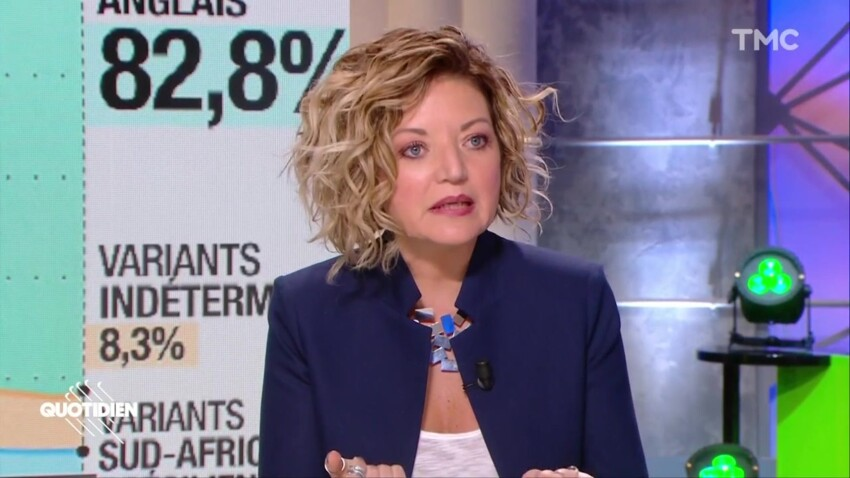without_mask: (388, 115, 493, 246)
